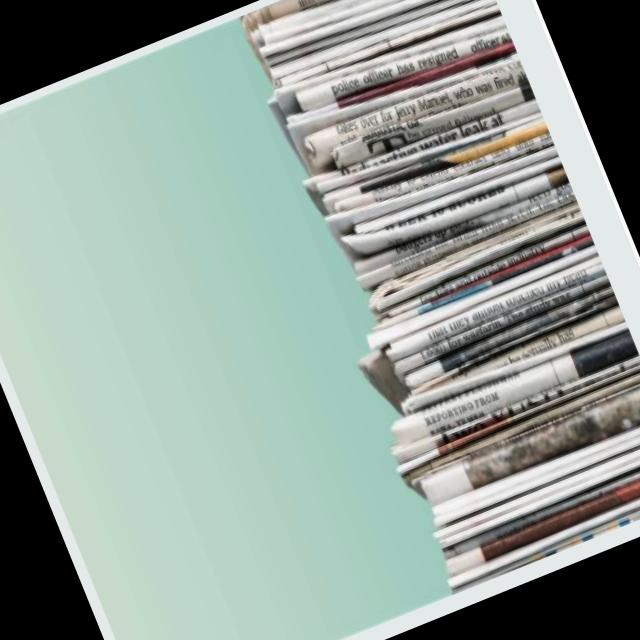Koran: (216, 0, 640, 596)
